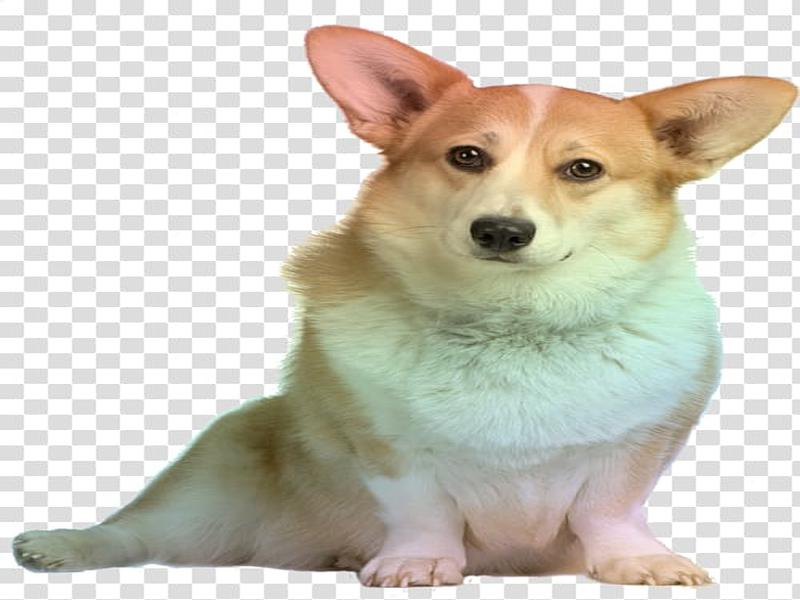corgi: (301, 22, 800, 279)
